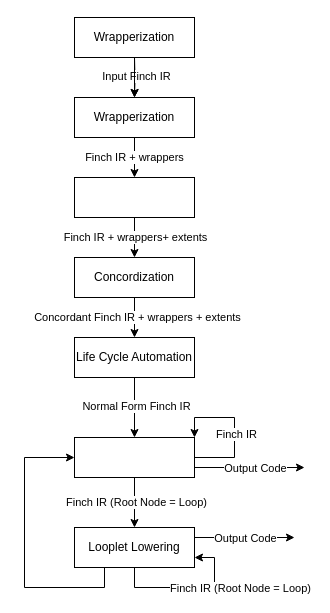
Image size: 330x613. Some labels were removed from this diagram. The shapes that lost their labels are listed below. From the top down, each one's centre as x and y in pixels, then its label:
[134,197]: Dimensionalization
[134,457]: Statement Lowering
